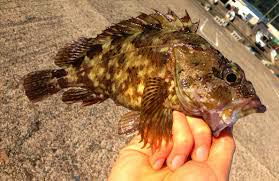kasago: (18, 9, 268, 136)
